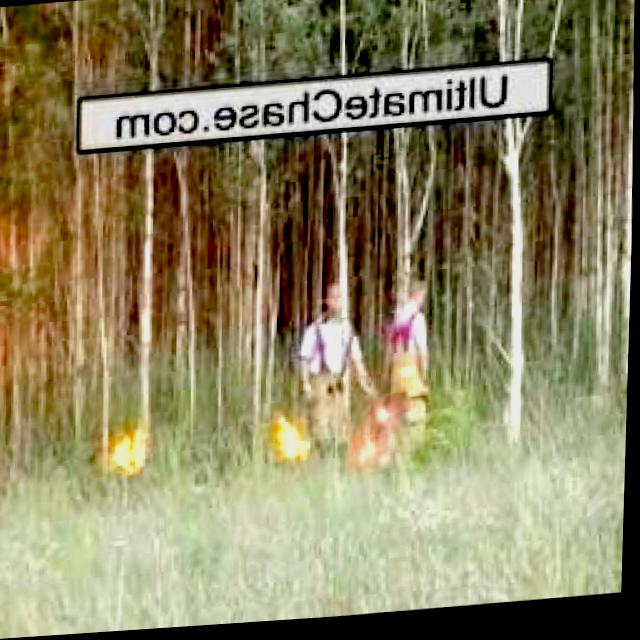Fire: (265, 396, 322, 474), (109, 426, 155, 482)
